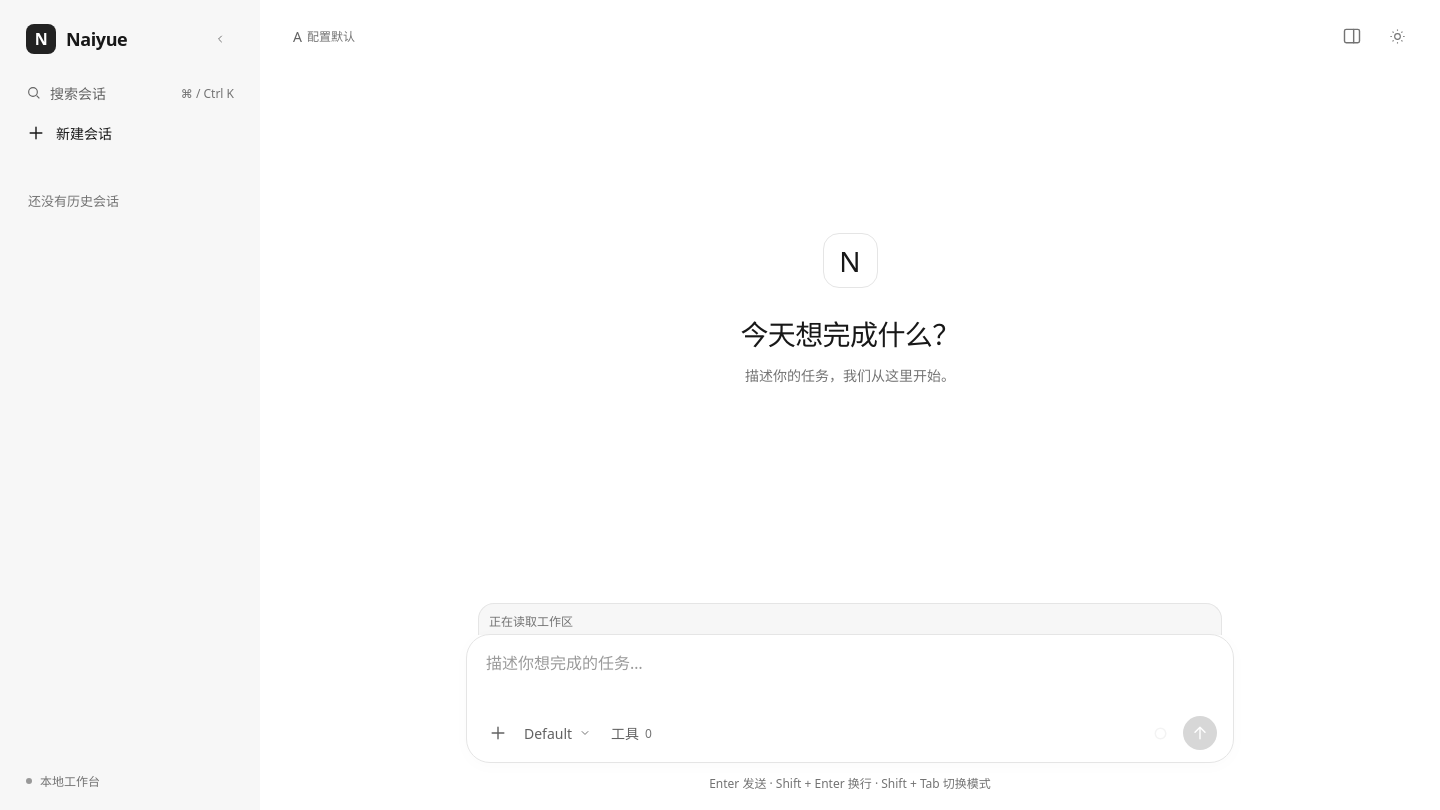
Test: loads model choices independently while service metadata is pending
expect the text "正在读取工作区" is shown: met, box left=489, top=612, right=573, bottom=630
expect the button with aria-label "模型与推理强度：A" is shown: met, box left=288, top=19, right=360, bottom=53
Type "ready to send" into the text box named "消息" at (850, 676), box left=483, top=650, right=1217, bottom=703
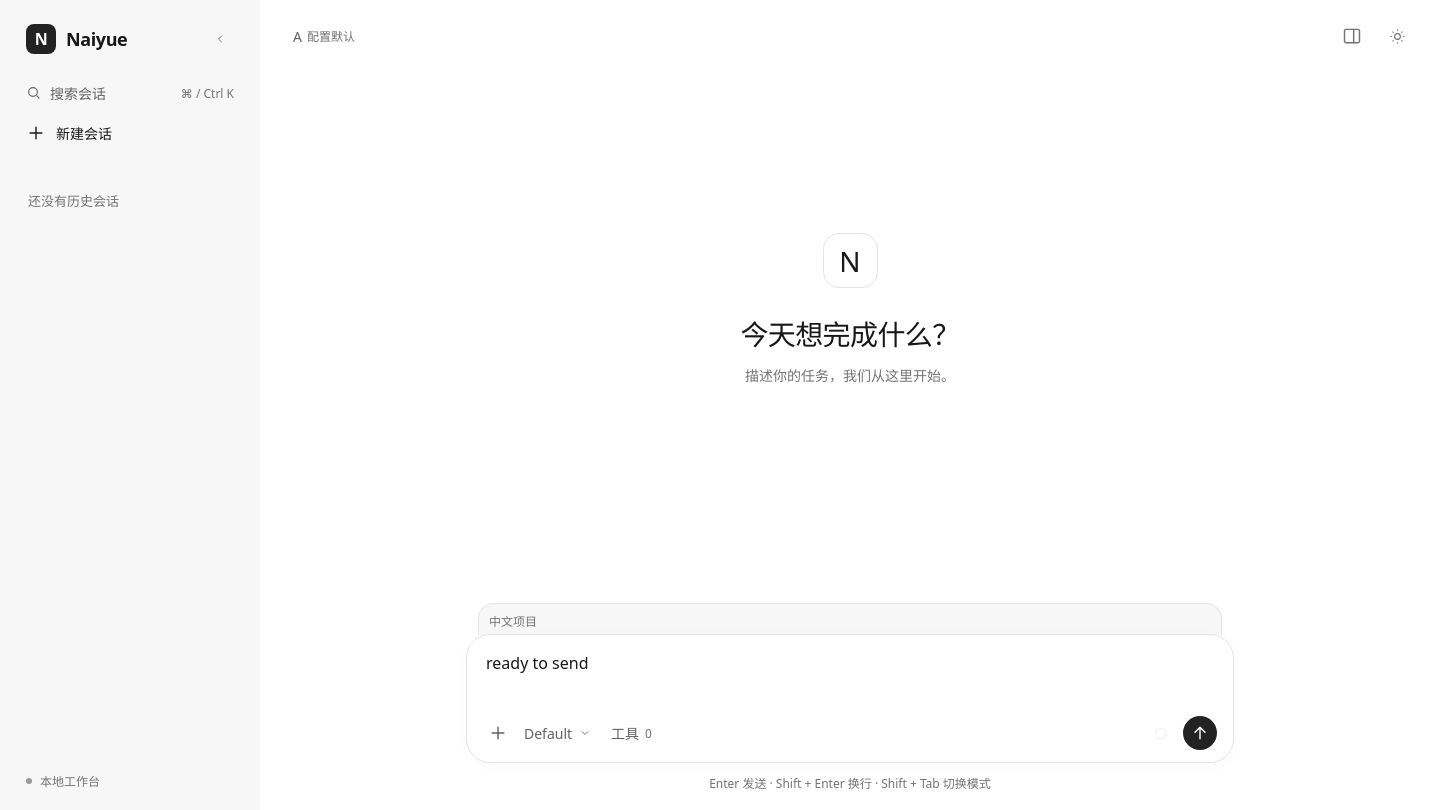
expect the button named "发送消息" is enabled: met, box left=1183, top=716, right=1217, bottom=750
expect the text "中文项目" is shown: met, box left=489, top=612, right=537, bottom=630
